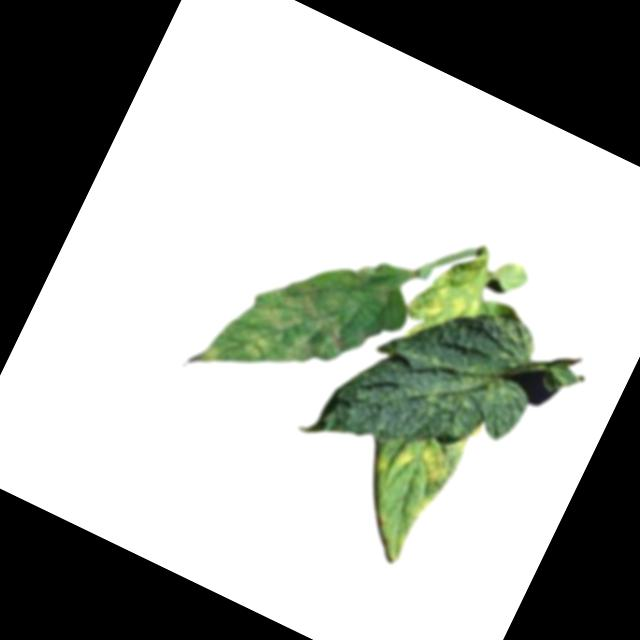Leaf_Mold: (189, 206, 390, 425), (399, 245, 499, 358), (390, 428, 462, 493), (399, 488, 436, 525), (369, 453, 392, 479)
